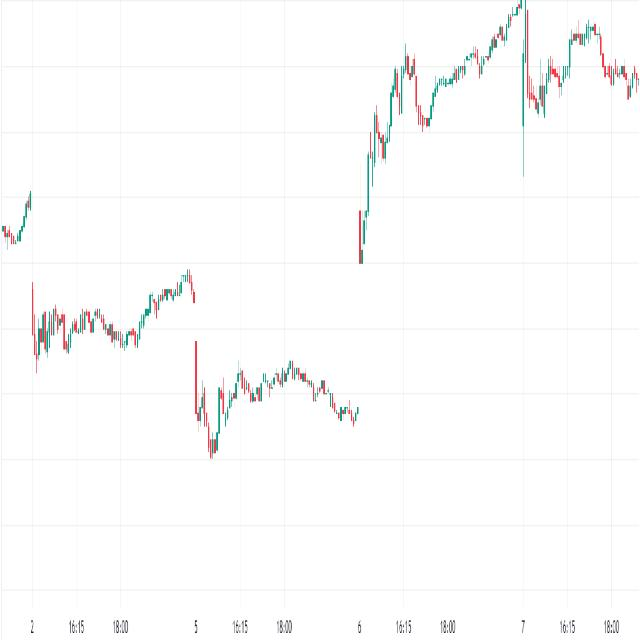Ascending-Triangle: (358, 44, 513, 218), (187, 359, 326, 482), (28, 297, 129, 399)
Rounding-Top: (226, 353, 343, 424)
